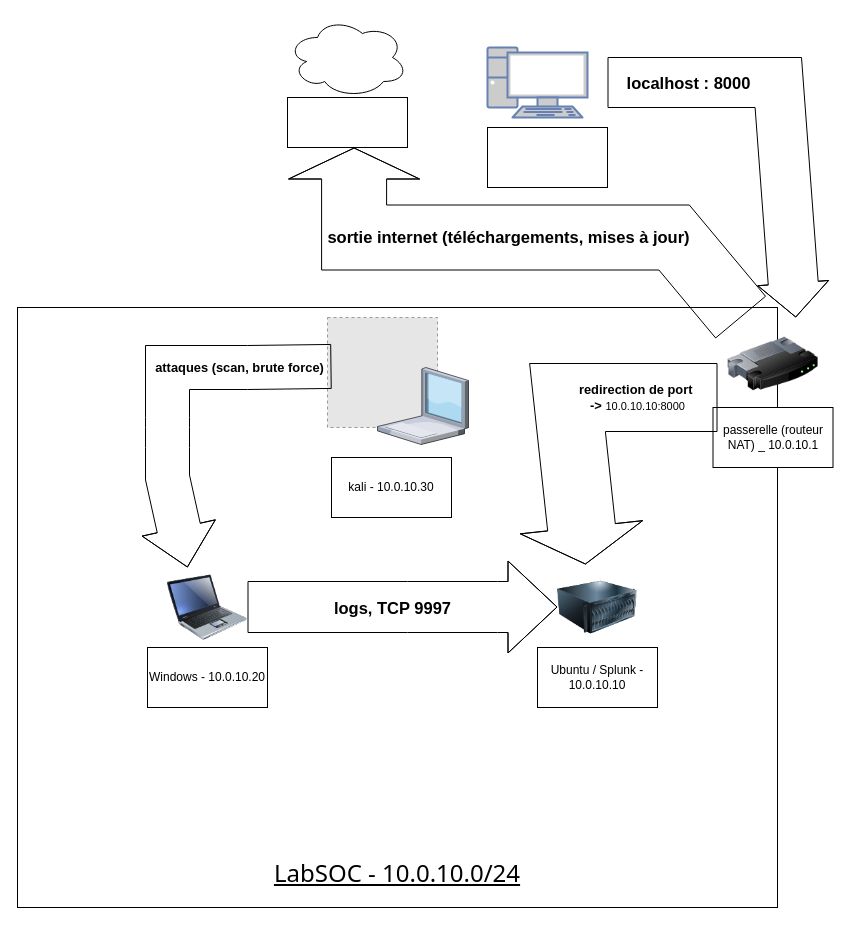
Some shapes in this 851 by 925 pixel diagram are drawn without their labels. Grey dashed boxes stand in for pictures. Each missing label, with the box of its shape:
internet: (286, 96, 408, 148)
PC hôte (navigateur): (486, 126, 608, 188)
